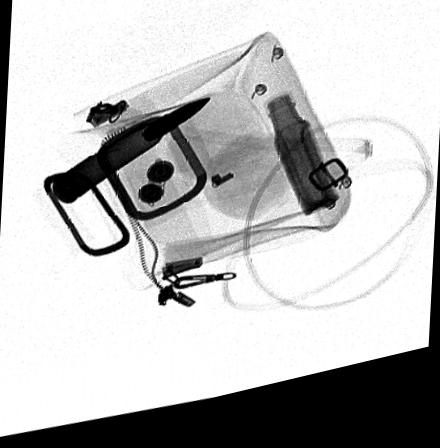Bullet: (50, 104, 215, 208)
